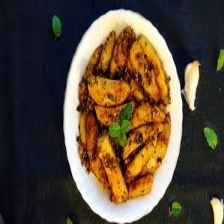sabzi: (74, 23, 174, 206)
